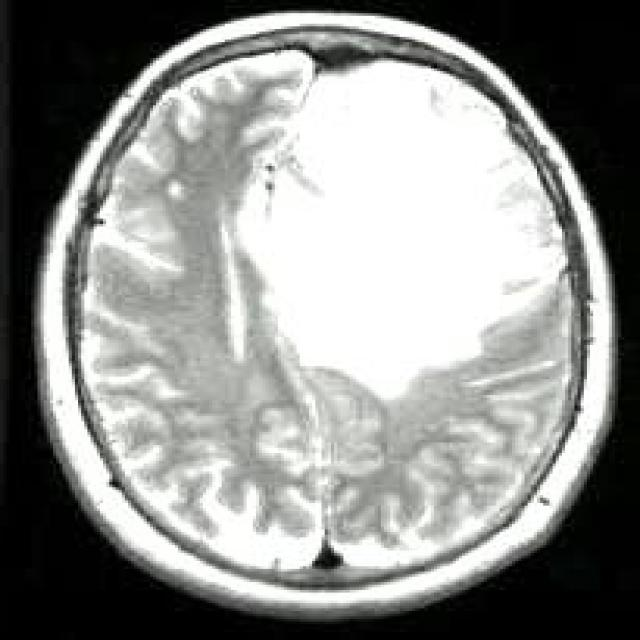Tumor: (235, 56, 573, 402)
